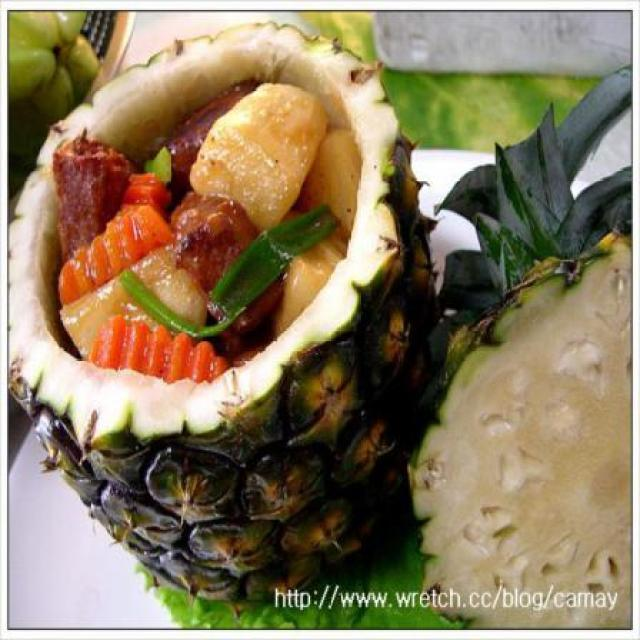Pineapple: (1, 12, 453, 612), (408, 232, 639, 638), (189, 77, 331, 227), (57, 245, 209, 358), (297, 126, 364, 246), (272, 241, 348, 336)
